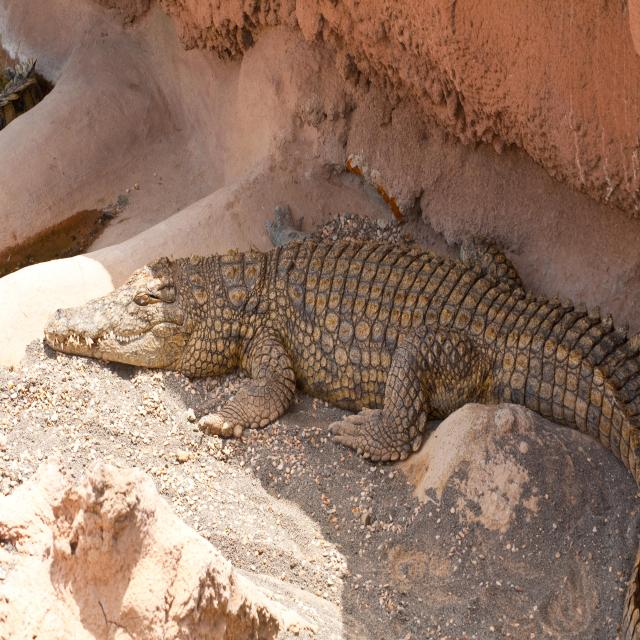crocodile: (17, 197, 640, 640)
